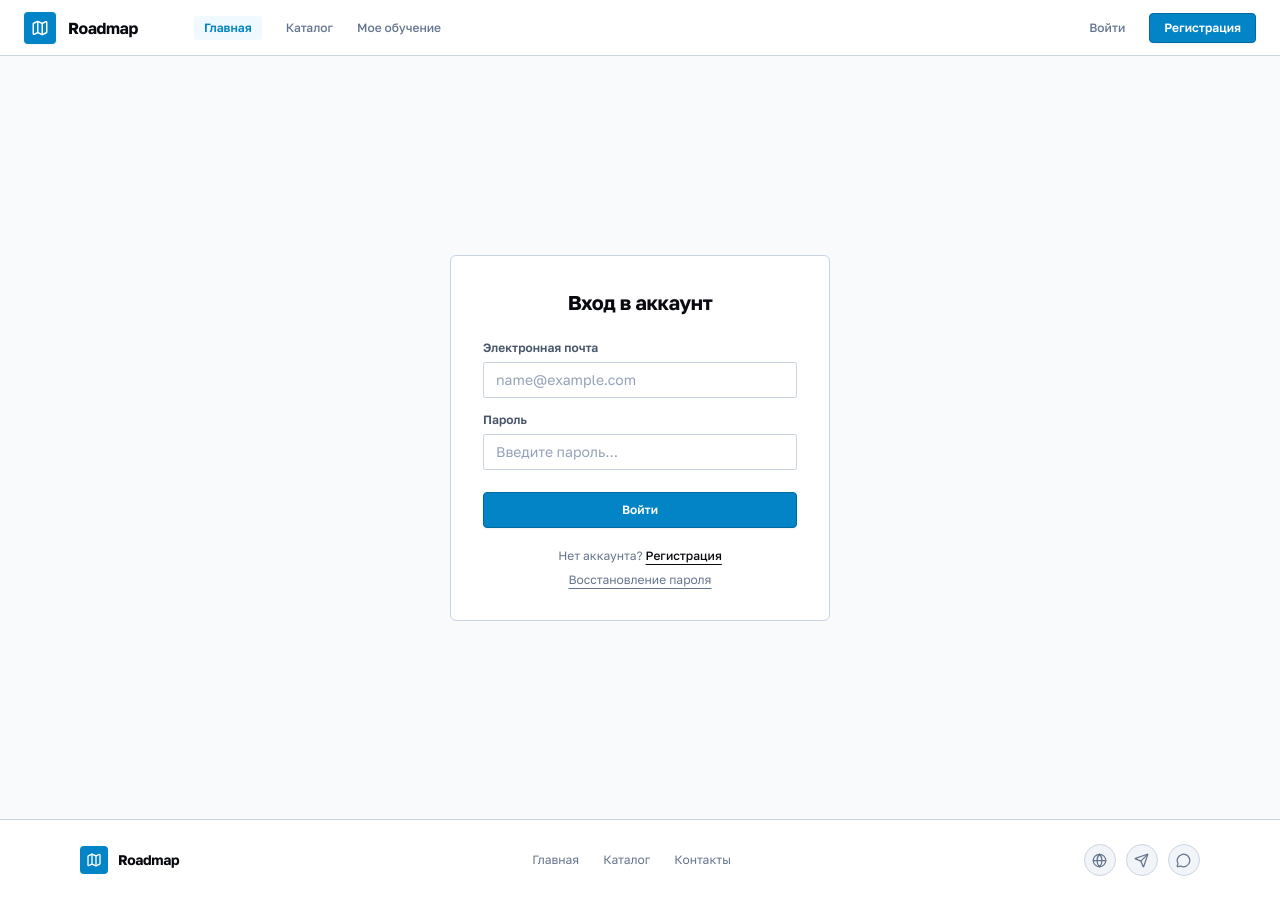
Test: LoginPage › shows error when fields are empty
Click the button "Войти" at (640, 510), box 483,492 -> 797,528
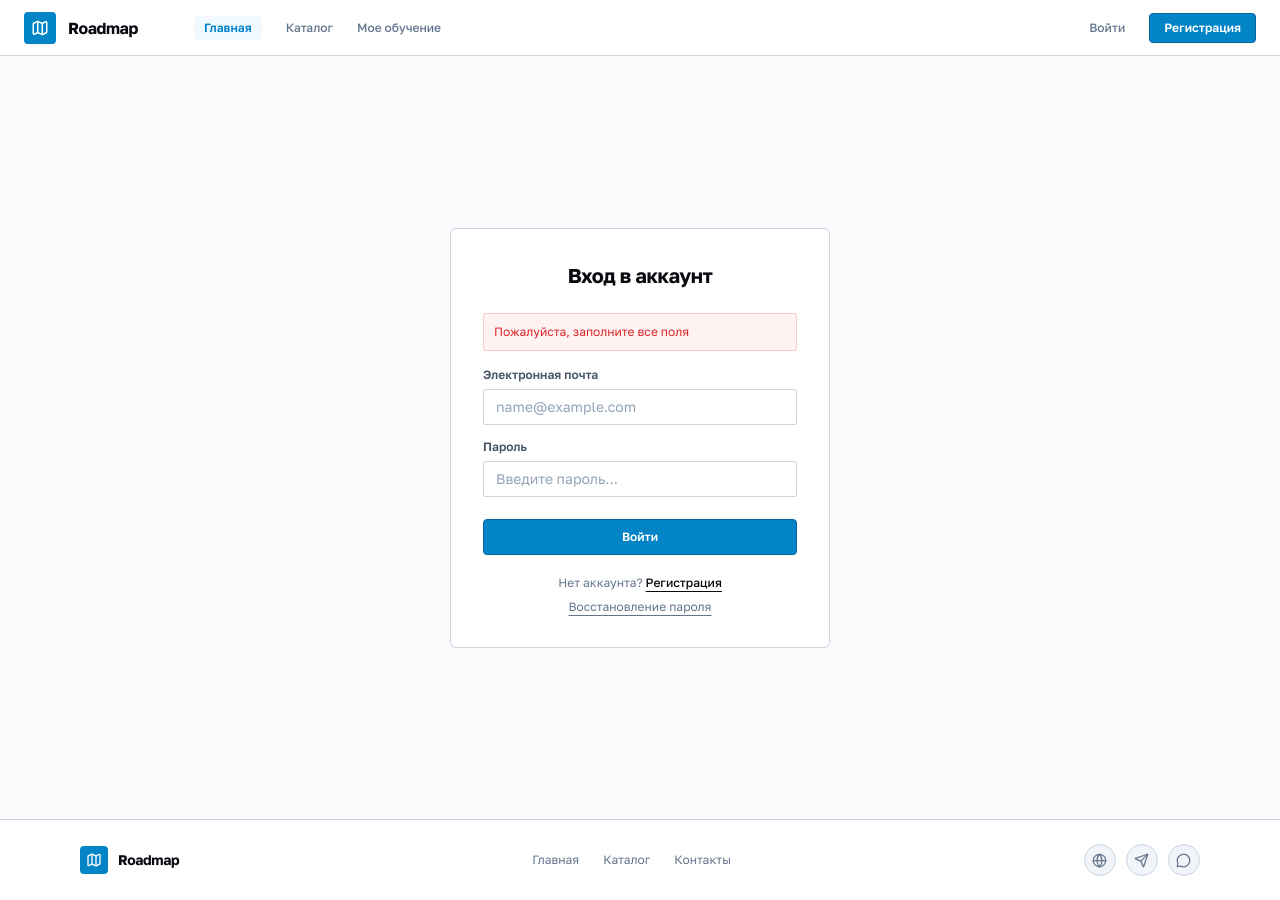
Now the text "Пожалуйста, заполните все поля" is shown, box 483,312 -> 797,350
